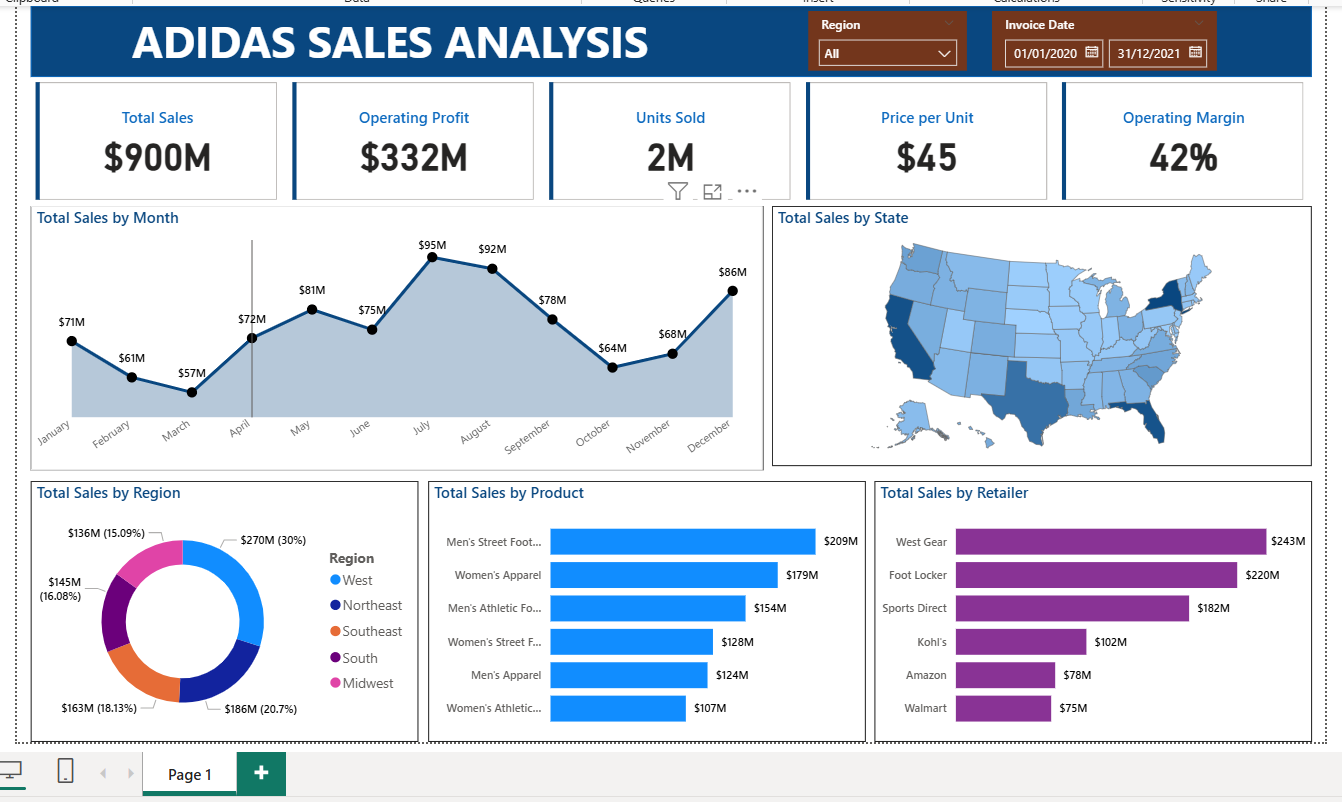

This screenshot's page, from the dashboard's own definition file:
{"tool":"powerbi","page":{"name":"Page 1","canvas":[1280,720],"ordinal":0},"visuals":[{"type":"shape","box":[13.4,0,1253.2,69.6],"z":0},{"type":"textbox","box":[107.1,0,1065.8,69.6],"z":1000},{"type":"cardVisual","fields":{"Data":["Sum(Data Sales Adidas.Total Sales)","Sum(Data Sales Adidas.Operating Profit)","Sum(Data Sales Adidas.Units Sold)","Avg(Data Sales Adidas.Price per Unit)","Avg(Data Sales Adidas.Operating Margin)"]},"box":[13.4,69.6,1253.2,125.9],"z":2000},{"type":"areaChart","title":"Total Sales by Month","fields":{"Category":["Data Sales Adidas.Invoice Date.Variation.Date Hierarchy.Month"],"Y":["Sum(Data Sales Adidas.Total Sales)"]},"box":[13.5,195.7,716.6,258],"z":3000},{"type":"shapeMap","title":"Total Sales by State","fields":{"Category":["Data Sales Adidas.State"],"Value":["Sum(Data Sales Adidas.Total Sales)"]},"box":[738.6,195.7,528.3,254.3],"z":4000},{"type":"donutChart","title":"Total Sales by Region","fields":{"Category":["Data Sales Adidas.Region"],"Y":["Sum(Data Sales Adidas.Total Sales)"]},"box":[13.5,464.7,379.1,255.6],"z":6000},{"type":"barChart","title":"Total Sales by Product","fields":{"Category":["Data Sales Adidas.Product"],"Y":["Sum(Data Sales Adidas.Total Sales)"]},"box":[402.3,464.7,428,255.6],"z":7000},{"type":"barChart","title":"Total Sales by Retailer","fields":{"Y":["Sum(Data Sales Adidas.Total Sales)"],"Category":["Data Sales Adidas.Retailer"]},"box":[838.9,464.7,428,255.6],"z":8000},{"type":"slicer","fields":{"Values":["Data Sales Adidas.Region"]},"box":[774.1,4.9,155.3,58.7],"z":9000},{"type":"slicer","fields":{"Values":["Data Sales Adidas.Invoice Date"]},"box":[953.8,4.9,220.1,58.7],"z":10000}]}

Visuals, with their boxes in screenshot pixels (x1, y1, x2, y2):
shape: <bbox>14, 0, 1310, 72</bbox>
textbox: <bbox>111, 0, 1213, 72</bbox>
cardVisual - Sum(Data Sales Adidas.Total Sales) x Sum(Data Sales Adidas.Operating Profit): <bbox>14, 72, 1310, 202</bbox>
"Total Sales by Month" areaChart: <bbox>14, 202, 755, 469</bbox>
"Total Sales by State" shapeMap: <bbox>764, 202, 1310, 465</bbox>
"Total Sales by Region" donutChart: <bbox>14, 480, 406, 745</bbox>
"Total Sales by Product" barChart: <bbox>416, 480, 858, 745</bbox>
"Total Sales by Retailer" barChart: <bbox>867, 480, 1310, 745</bbox>
slicer - Data Sales Adidas.Region: <bbox>800, 5, 961, 66</bbox>
slicer - Data Sales Adidas.Invoice Date: <bbox>986, 5, 1214, 66</bbox>
